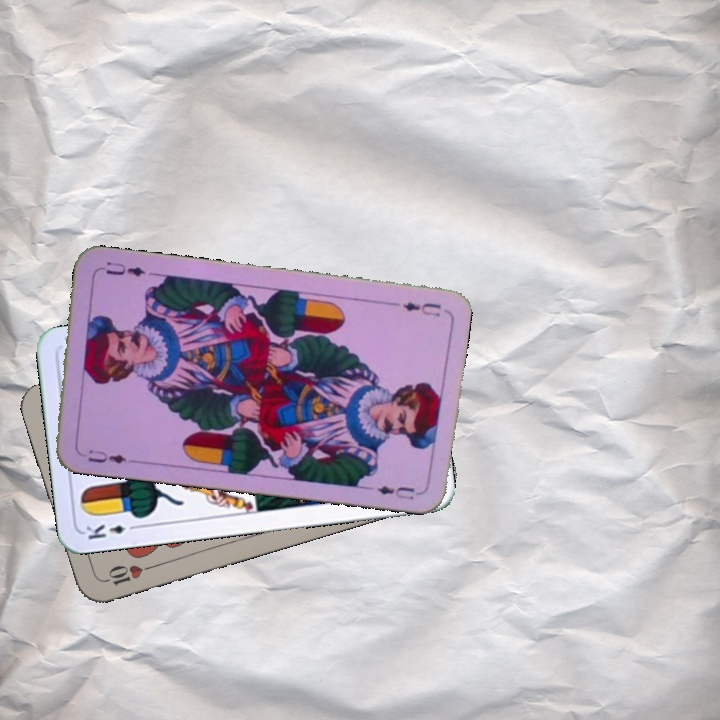EK: (82, 520, 141, 542)
EU: (398, 298, 444, 320), (84, 446, 129, 467)
H10: (98, 560, 156, 588)
